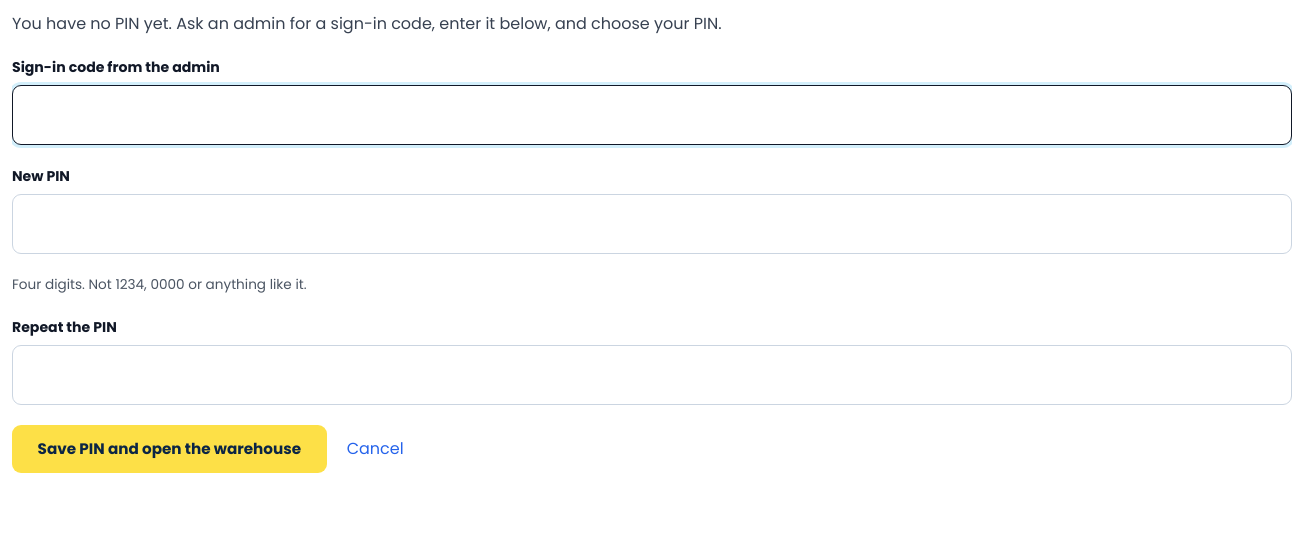
it: setting a PIN on the profile page › says when the code does not work
Type "4821" into the field labelled "Sign-in code from the admin" at [652, 115], box [12, 85, 1292, 145]
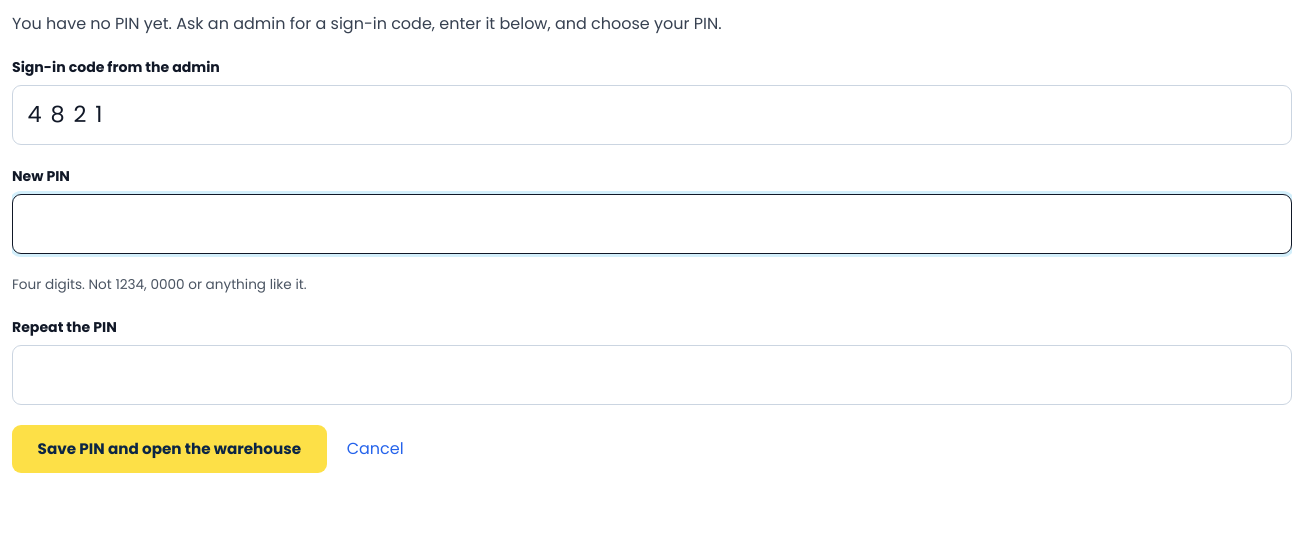
Type "5937" into the password field labelled "New PIN" at [652, 224], box [12, 194, 1292, 254]
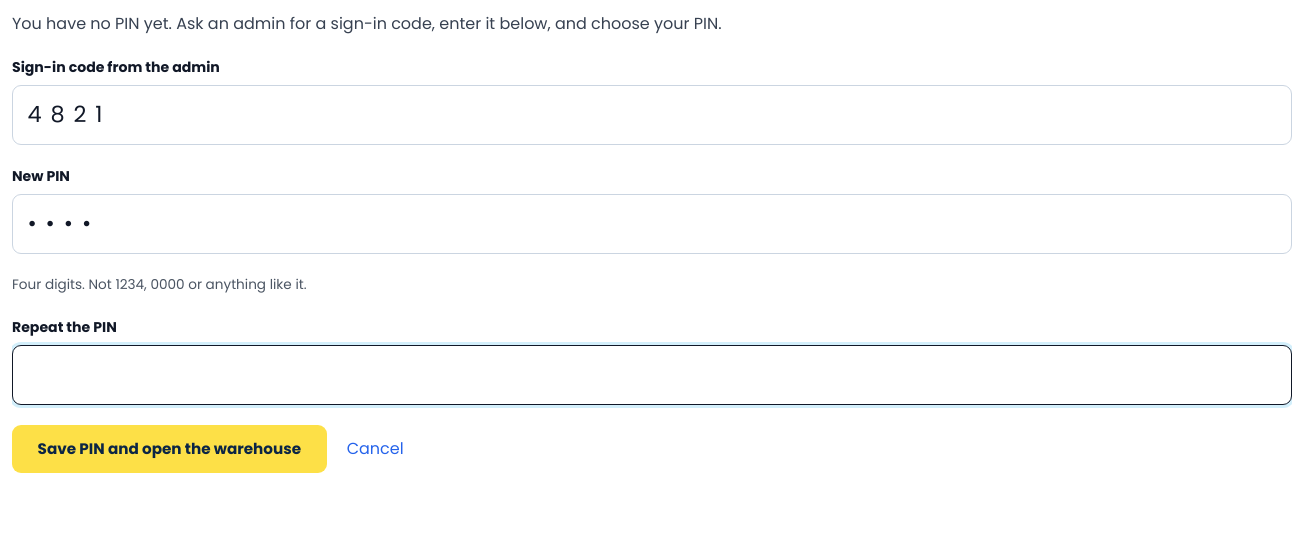
Type "5937" into the password field labelled "Repeat the PIN" at [652, 375], box [12, 345, 1292, 405]
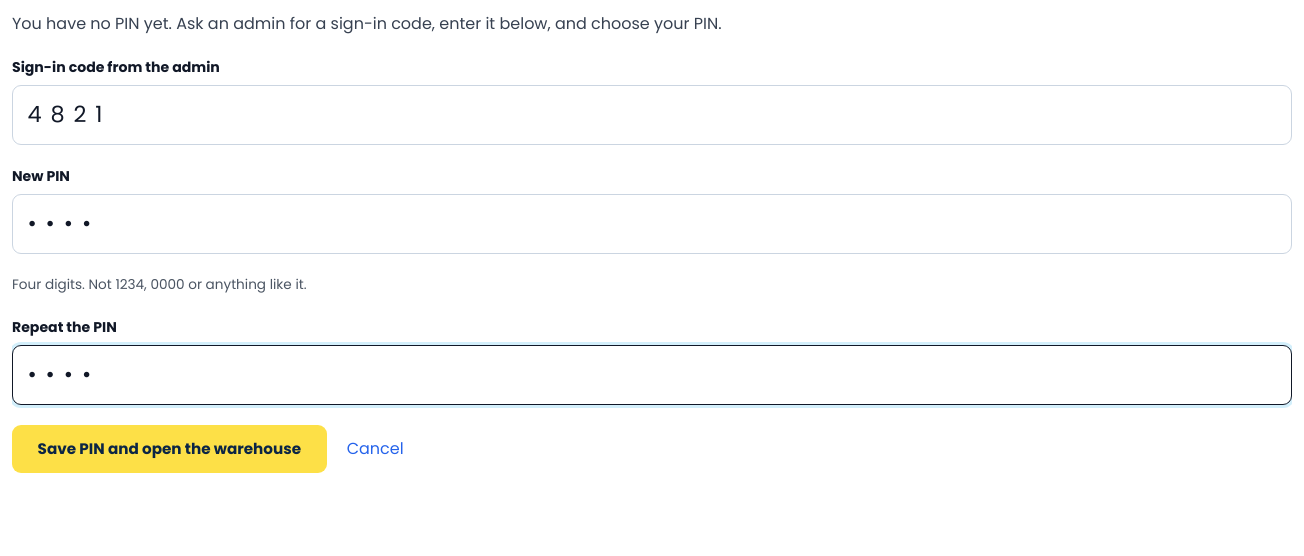
Click the button "Save PIN and open the warehouse" at [169, 449], box [12, 425, 327, 473]
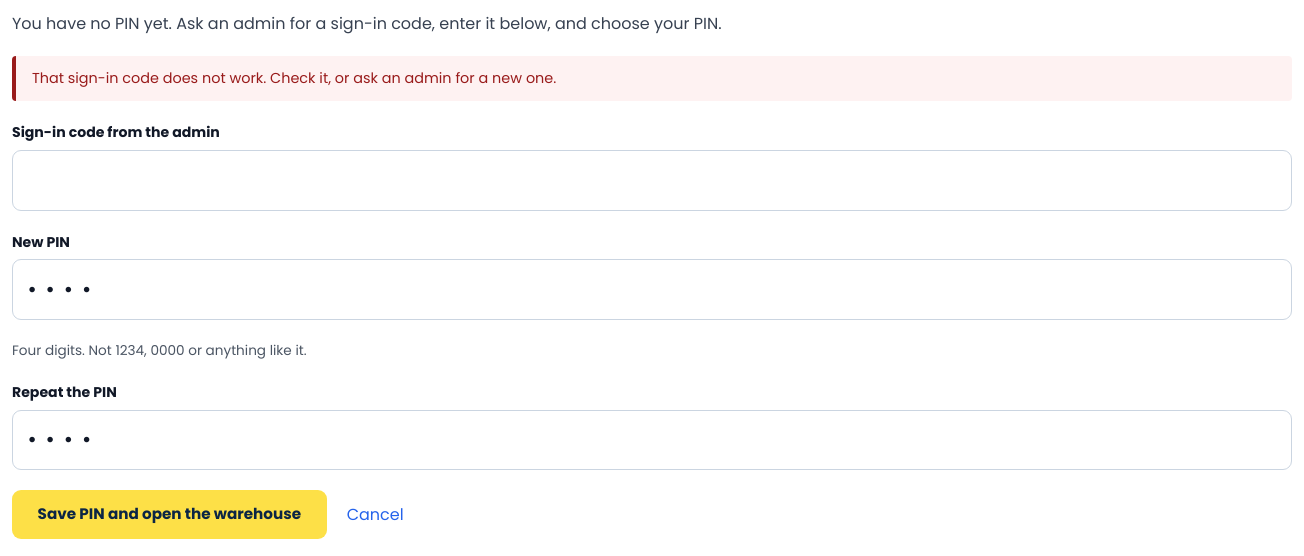
Now the message "That sign-in code does not work. Check it, or ask an admin for a new one." is shown, box [12, 56, 1292, 101]
